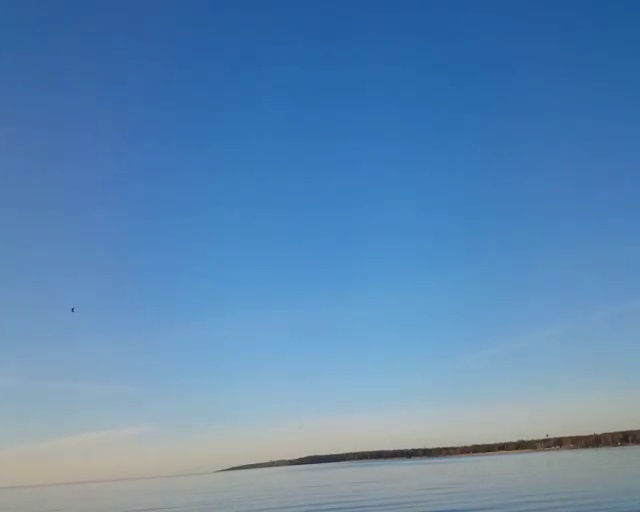BIRD: (68, 306, 76, 314)
